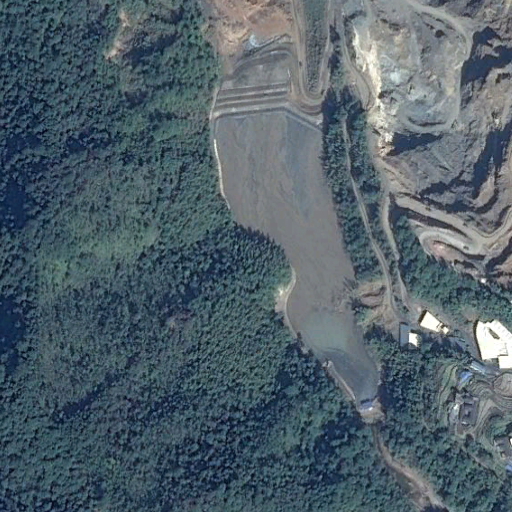tp: (210, 41, 383, 417)
